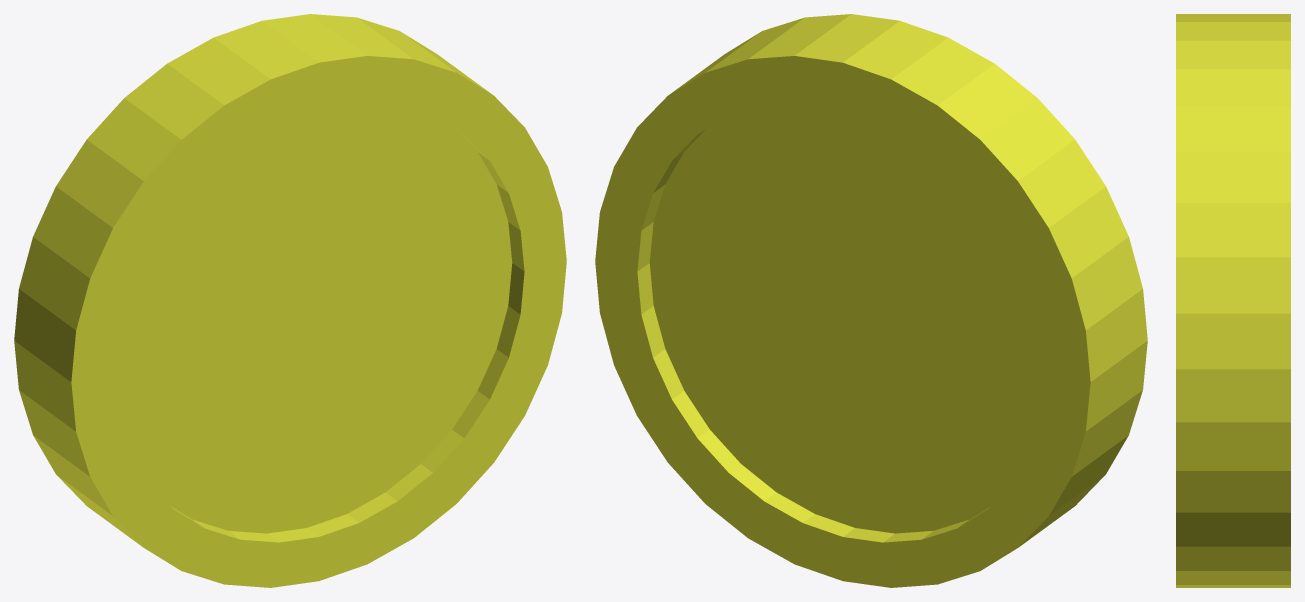
File: Coin.fbx
The picture shows the model from 3 angles, left to right: view 1: azimuth 30°, elevation 25°; view 2: azimuth 150°, elevation 25°; view 3: azimuth 270°, elevation 25°; orthographic projection.
Parts seen in each view (by area): view 1: Cylinder; view 2: Cylinder; view 3: Cylinder.
Boxes of the visible parts, x1,y1,x2,y2 form: Cylinder: (14, 14, 566, 587); Cylinder: (595, 14, 1147, 587); Cylinder: (1176, 14, 1290, 587).
Size of the model in its own units: 200 by 200 by 40.
